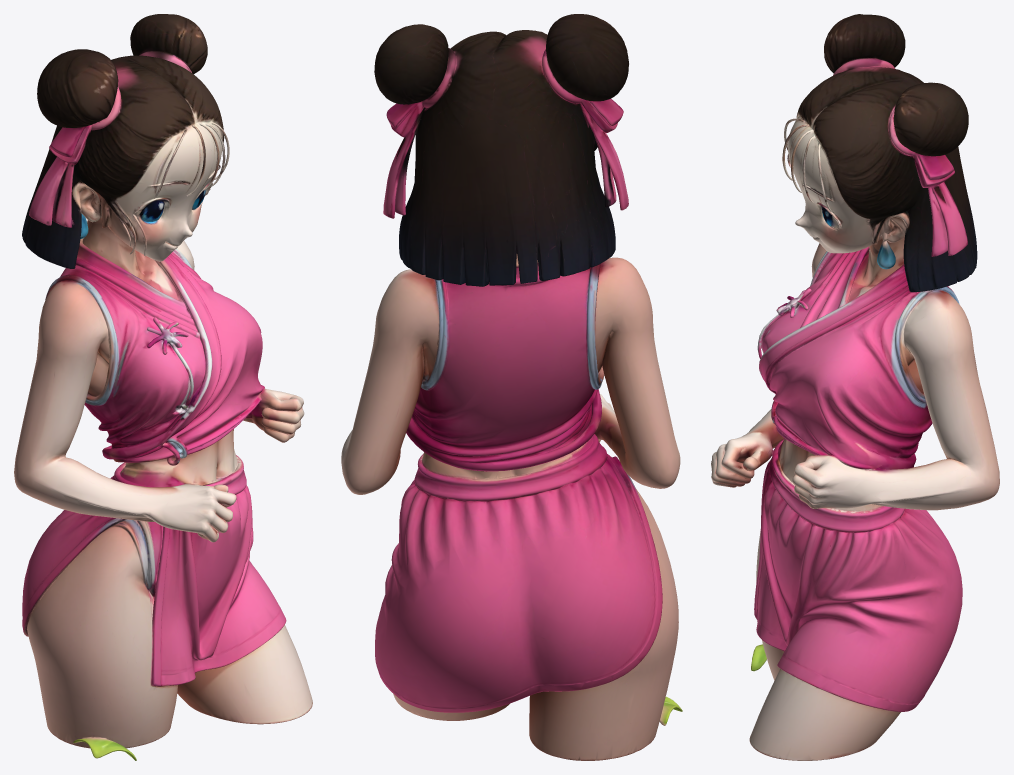
The model's file is girl-10.glb.
3 renders of one model, left to right at view 1: azimuth 30°, elevation 25°; view 2: azimuth 150°, elevation 25°; view 3: azimuth 270°, elevation 25°, orthographic. The views are drawn at different scales.
Parts seen in each view (by area): view 1: node_0; view 2: node_0; view 3: node_0.
Boxes of the visible parts, x1=… form: node_0: x1=14, y1=14, x2=312, y2=760; node_0: x1=341, y1=14, x2=682, y2=760; node_0: x1=711, y1=14, x2=999, y2=760.
Size of the model in its own units: 0.476 by 1.11 by 0.4418.
1 material, 1 textured.
